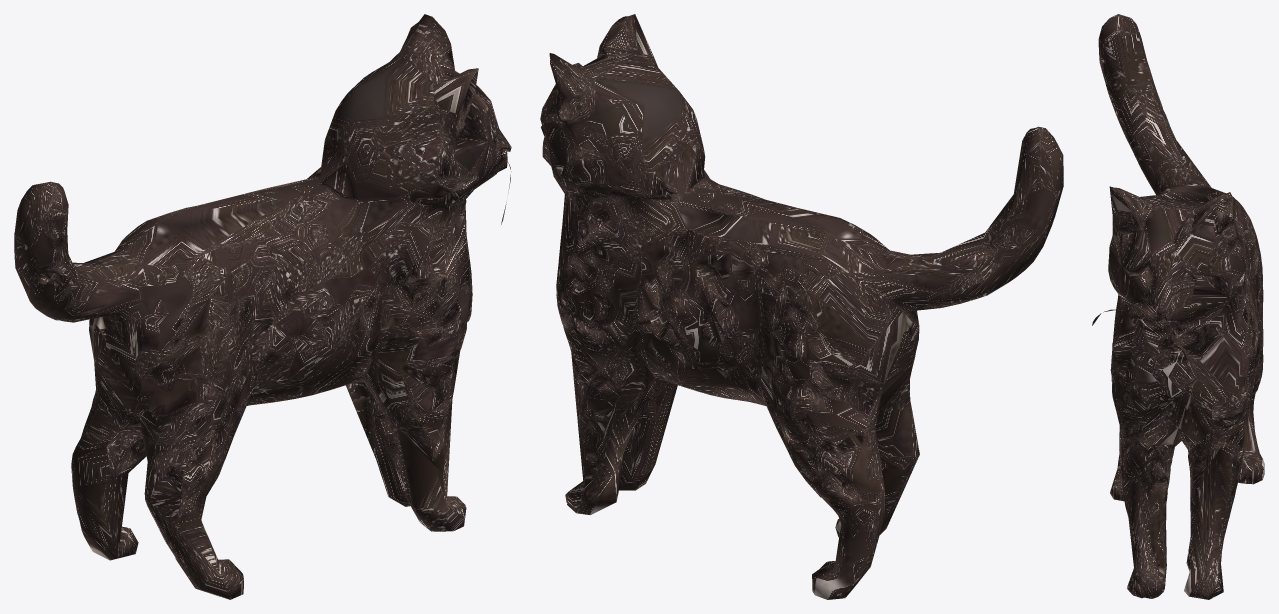
Rendered from SEACAT-lo.glb.
3 renders of one model, left to right at view 1: azimuth 30°, elevation 25°; view 2: azimuth 150°, elevation 25°; view 3: azimuth 270°, elevation 25°, orthographic. The views are drawn at different scales.
Parts seen in each view (by area): view 1: material; view 2: material; view 3: material.
Part boxes in pixels (<box>): material: <box>14,14,511,599</box>; material: <box>540,14,1063,599</box>; material: <box>1092,14,1264,599</box>.
Bounding box in the file's own units: 1.13 × 0.9965 × 0.376.
1 material, 1 textured.
